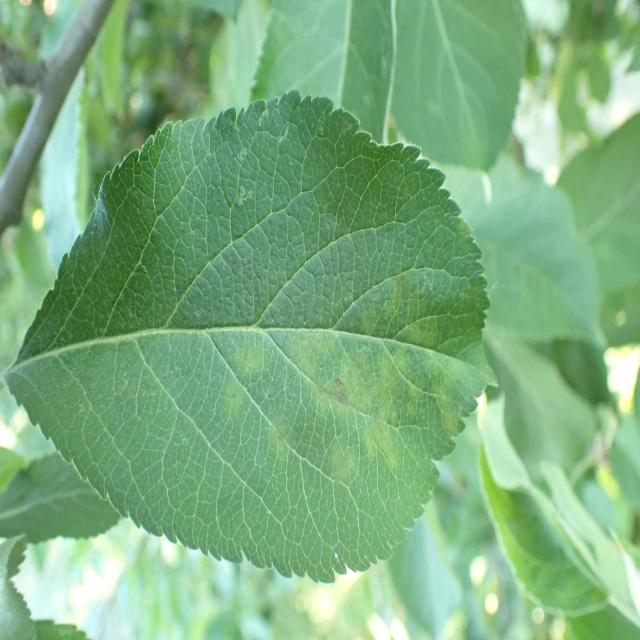scab: (76, 209, 495, 536)
